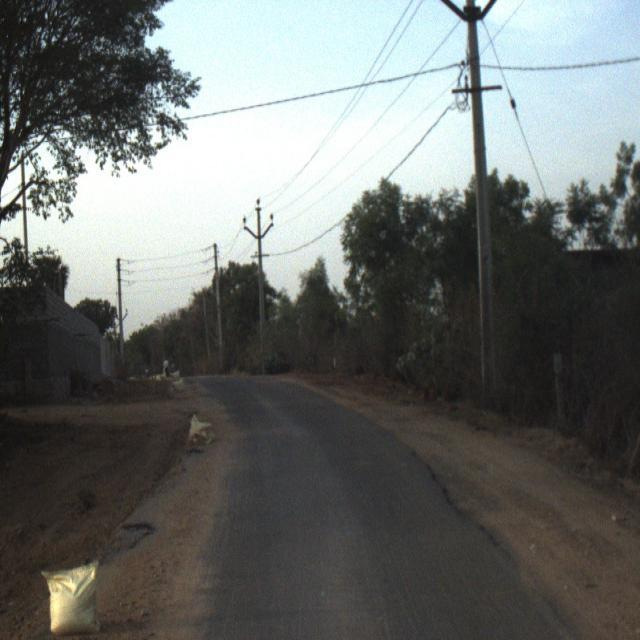pothole: (96, 506, 190, 568), (174, 406, 241, 460)
